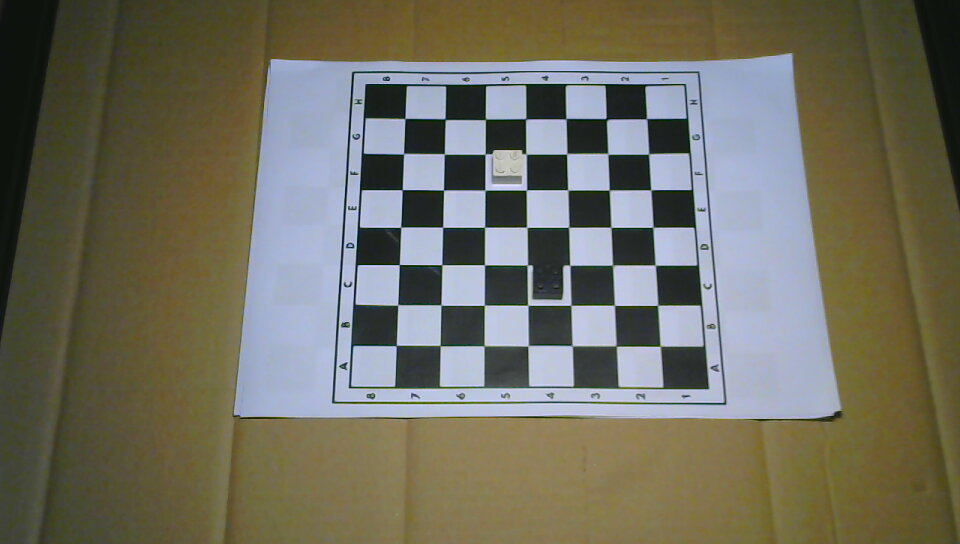bp: (532, 261, 564, 301)
wp: (490, 148, 523, 186)
